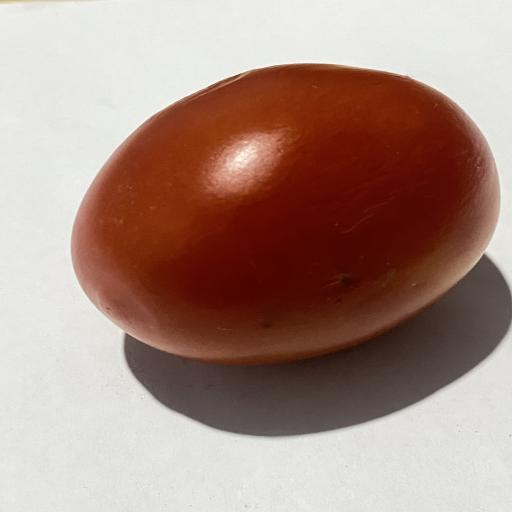overipe: (72, 64, 499, 364)
